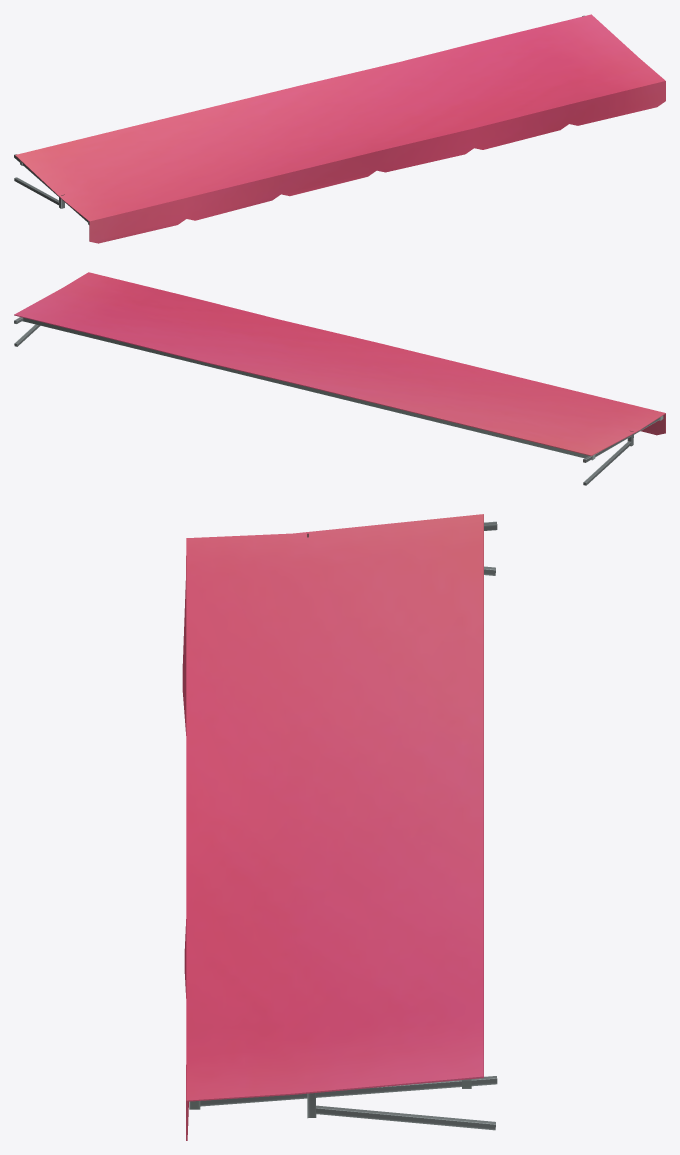
File: ms_sunshade05b.fbx
The picture shows the model from 3 angles, top to bottom: view 1: azimuth 30°, elevation 25°; view 2: azimuth 150°, elevation 25°; view 3: azimuth 270°, elevation 25°; orthographic projection. The views are drawn at different scales.
Visible parts, largest first — view 1: ms_sunshade05b; view 2: ms_sunshade05b; view 3: ms_sunshade05b.
Part boxes in pixels (x1,y1,x2,y2): ms_sunshade05b: (14, 14, 665, 243); ms_sunshade05b: (14, 272, 665, 485); ms_sunshade05b: (182, 514, 497, 1140).
Size of the model in its own units: 4.82 by 0.2896 by 1.14.
